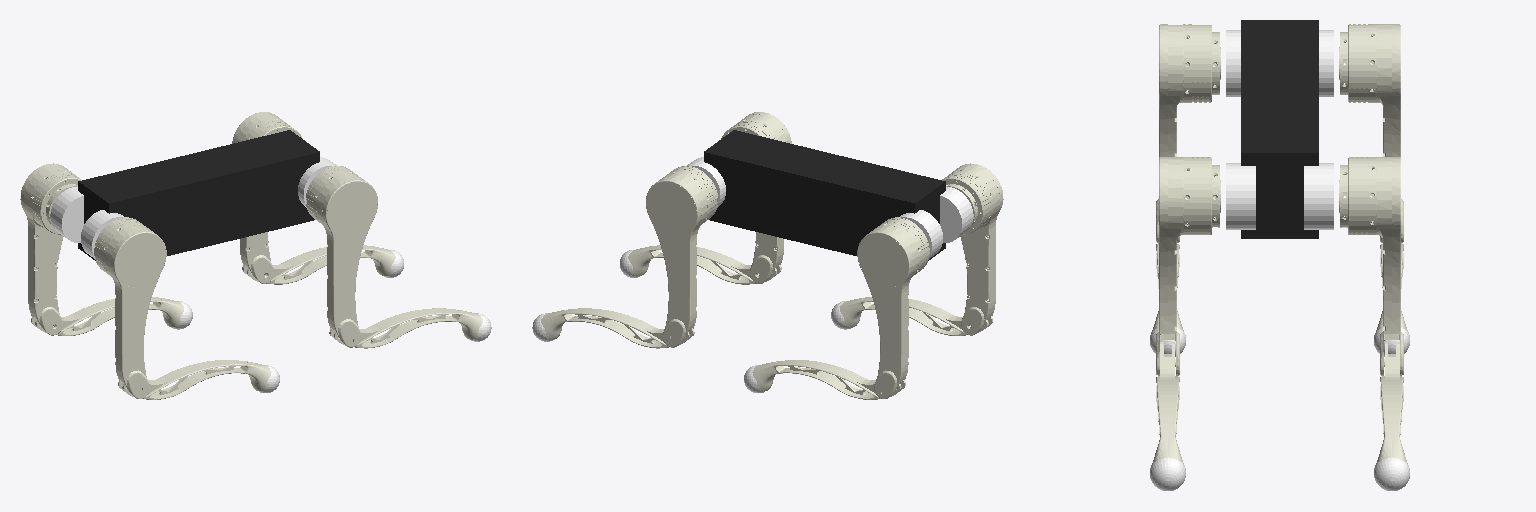
The robot description file, URDF, robot "go1_pointfoot_quadruped":
<?xml version="1.0"?>
<robot name="go1_pointfoot_quadruped">

  <!-- ================= materials ================= -->
  <material name="white"><color rgba="1 1 1 1"/></material>
  <material name="silver"><color rgba="0.9137 0.9137 0.8471 1"/></material>
  <material name="grey"><color rgba="0.2 0.2 0.2 1"/></material>

  <!-- ================= base ================= -->
  <link name="base">
    <visual><geometry><box size="0.001 0.001 0.001"/></geometry></visual>
  </link>

  <joint name="floating_base" type="fixed">
    <parent link="base"/>
    <child link="trunk"/>
    <origin xyz="0 0 0"/>
  </joint>

  <!-- ================= trunk ================= -->
  <link name="trunk">
    <visual>
      <geometry><box size="0.3762 0.0935 0.114"/></geometry>
      <material name="grey"/>
    </visual>
    <collision>
      <geometry><box size="0.3762 0.0935 0.114"/></geometry>
    </collision>
    <inertial>
      <origin xyz="0.011611 0.004437 0.000108"/>
      <mass value="4.8"/>
      <inertia
        ixx="0.016130741919" ixy="0.000593180607" ixz="7.324662e-06"
        iyy="0.036507810812" iyz="2.0969537e-05" izz="0.044693872053"/>
    </inertial>
  </link>

  <!-- ================= IMU ================= -->
  <joint name="imu_joint" type="fixed">
    <parent link="trunk"/>
    <child link="imu_link"/>
    <origin xyz="-0.01592 -0.06659 -0.00617"/>
  </joint>

  <link name="imu_link">
    <inertial>
      <mass value="0.001"/>
      <inertia ixx="1e-4" iyy="1e-4" izz="1e-4" ixy="0" ixz="0" iyz="0"/>
    </inertial>
  </link>

  <!-- ========================================================= -->
  <!-- ======================= FR LEG (use R_ params) =========== -->
  <!-- ========================================================= -->

  <joint name="FR_abad_joint" type="revolute">
    <parent link="trunk"/>
    <child link="FR_Abad_Link"/>
    <origin xyz="0.1881 -0.04675 0"/>
    <axis xyz="1 0 0"/>
    <limit effort="40" lower="-0.4" upper="0.4" velocity="30"/>
  </joint>

  <link name="FR_Abad_Link">
    <inertial>
      <origin xyz="0 -0.0033685 0"/>
      <mass value="0.84142"/>
      <inertia ixx="0.00044085" ixy="6.4555e-07" ixz="-2.9232e-07"
               iyy="0.00074812" iyz="9.7511e-08" izz="0.0004023"/>
    </inertial>
    <visual>
      <origin rpy="1.57 0 0"/>
      <geometry><cylinder length="0.035" radius="0.04"/></geometry>
      <material name="white"/>
    </visual>
    <collision>
      <origin rpy="1.57 0 0"/>
      <geometry><cylinder length="0.035" radius="0.04"/></geometry>
    </collision>
  </link>

  <joint name="FR_hip_joint" type="revolute">
    <parent link="FR_Abad_Link"/>
    <child link="FR_hip_Link"/>
    <origin xyz="0 -0.0875 0"/>
    <axis xyz="0 -1 0"/>
    <limit effort="40" lower="-1.3" upper="1.3" velocity="30"/>
  </joint>

  <link name="FR_hip_Link">
    <visual><geometry><mesh filename="../meshes/R_hip_Link.STL"/></geometry><material name="silver"/></visual>
    <collision>
      <origin xyz="0 0 -0.1"/>
      <geometry><cylinder length="0.15" radius="0.02"/></geometry>
    </collision>
    <inertial>
      <origin xyz="-0.0029051 0.021376 -0.028346"/>
      <mass value="1.0967"/>
      <inertia ixx="0.0021496" ixy="1.1839e-06" ixz="-4.8995e-05"
               iyy="0.0026093" iyz="1.3229e-05" izz="0.00052605"/>
    </inertial>
  </link>

  <joint name="FR_knee_joint" type="revolute">
    <parent link="FR_hip_Link"/>
    <child link="FR_knee_Link"/>
    <origin xyz="0 0 -0.22"/>
    <axis xyz="0 -1 0"/>
    <limit effort="40" lower="0.5" upper="2.3" velocity="30"/>
  </joint>

  <link name="FR_knee_Link">
    <visual><geometry><mesh filename="../meshes/R_knee_Link.STL"/></geometry><material name="silver"/></visual>
    <collision>
      <origin xyz="0.008 0 -0.06" rpy="0 -0.21 0"/>
      <geometry><cylinder length="0.12" radius="0.012"/></geometry>
    </collision>
    <inertial>
      <origin xyz="0.006435 0 -0.107388"/>
      <mass value="0.154"/>
      <inertia ixx="0.00108" ixy="3.4e-07" ixz="1.72e-05"
               iyy="0.0011" iyz="8.28e-06" izz="3.29e-05"/>
    </inertial>
  </link>

  <!-- knee sub-links (from original biped) -->
  <link name="FR_kneeflower">
    <collision>
      <origin xyz="0 0 0" rpy="0 0 0"/>
      <geometry><cylinder length="0.07" radius="0.011"/></geometry>
    </collision>
  </link>

  <joint name="FR_kneeflower_joint" type="fixed">
    <parent link="FR_knee_Link"/>
    <child link="FR_kneeflower"/>
    <origin xyz="0.020 0 -0.152" rpy="0 0.05 0"/>
    <axis xyz="0 0 0"/>
  </joint>

  <link name="FR_kneeflower1">
    <collision>
      <origin xyz="0 0 0" rpy="0 0 0"/>
      <geometry><cylinder length="0.038" radius="0.012"/></geometry>
    </collision>
  </link>

  <joint name="FR_kneeflower1_joint" type="fixed">
    <parent link="FR_kneeflower"/>
    <child link="FR_kneeflower1"/>
    <origin xyz="-0.006 0 -0.05" rpy="0 0.3 0"/>
    <axis xyz="0 0 0"/>
  </joint>

  <joint name="FR_foot_joint" type="fixed" dont_collapse="true">
    <parent link="FR_knee_Link"/>
    <child link="FR_foot"/>
    <origin xyz="0 0 -0.232"/>
  </joint>

  <link name="FR_foot">
    <visual><geometry><sphere radius="0.022"/></geometry><material name="white"/></visual>
    <collision><geometry><sphere radius="0.022"/></geometry></collision>
    <inertial>
      <origin xyz="-0.039445 0 -0.17051"/>
      <mass value="0.010414"/>
      <inertia ixx="2.0696e-05" iyy="1.6231e-06" izz="2.1532e-05"
               ixy="0" ixz="4.8649e-07" iyz="0"/>
    </inertial>
  </link>

  <!-- ========================================================= -->
  <!-- ======================= FL LEG (use L_ params) =========== -->
  <!-- ========================================================= -->

  <joint name="FL_abad_joint" type="revolute">
    <parent link="trunk"/>
    <child link="FL_Abad_Link"/>
    <origin xyz="0.1881 0.04675 0"/>
    <axis xyz="1 0 0"/>
    <limit effort="40" lower="-0.4" upper="0.4" velocity="30"/>
  </joint>

  <link name="FL_Abad_Link">
    <inertial>
      <origin xyz="0 0.0033685 0"/>
      <mass value="0.84142"/>
      <inertia ixx="0.00044078" ixy="-9.9392e-08" ixz="-3.6784e-07"
               iyy="0.00074812" iyz="-4.4651e-08" izz="0.00040238"/>
    </inertial>
    <visual>
      <origin rpy="1.57 0 0"/>
      <geometry><cylinder length="0.035" radius="0.04"/></geometry>
      <material name="white"/>
    </visual>
    <collision>
      <origin rpy="1.57 0 0"/>
      <geometry><cylinder length="0.035" radius="0.04"/></geometry>
    </collision>
  </link>

  <joint name="FL_hip_joint" type="revolute">
    <parent link="FL_Abad_Link"/>
    <child link="FL_hip_Link"/>
    <origin xyz="0 0.0875 0"/>
    <axis xyz="0 -1 0"/>
    <limit effort="40" lower="-1.3" upper="1.3" velocity="30"/>
  </joint>

  <link name="FL_hip_Link">
    <visual><geometry><mesh filename="../meshes/L_hip_Link.STL"/></geometry><material name="silver"/></visual>
    <collision>
      <origin xyz="0 0 -0.1"/>
      <geometry><cylinder length="0.15" radius="0.02"/></geometry>
    </collision>
    <inertial>
      <origin xyz="-0.0029051 -0.021376 -0.028346"/>
      <mass value="1.0967"/>
      <inertia ixx="0.0021496" ixy="1.1839e-06" ixz="-4.8995e-05"
               iyy="0.0026093" iyz="1.3229e-05" izz="0.00052605"/>
    </inertial>
  </link>

  <joint name="FL_knee_joint" type="revolute">
    <parent link="FL_hip_Link"/>
    <child link="FL_knee_Link"/>
    <origin xyz="0 0 -0.22"/>
    <axis xyz="0 -1 0"/>
    <limit effort="40" lower="0.5" upper="2.3" velocity="30"/>
  </joint>

  <link name="FL_knee_Link">
    <visual><geometry><mesh filename="../meshes/L_knee_Link.STL"/></geometry><material name="silver"/></visual>
    <collision>
      <origin xyz="0.008 0 -0.06" rpy="0 -0.21 0"/>
      <geometry><cylinder length="0.12" radius="0.012"/></geometry>
    </collision>
    <inertial>
      <origin xyz="0.006435 0 -0.107388"/>
      <mass value="0.154"/>
      <inertia ixx="0.00108" ixy="3.4e-07" ixz="1.72e-05"
               iyy="0.0011" iyz="8.28e-06" izz="3.29e-05"/>
    </inertial>
  </link>

  <link name="FL_kneeflower">
    <collision>
      <origin xyz="0 0 0" rpy="0 0 0"/>
      <geometry><cylinder length="0.07" radius="0.011"/></geometry>
    </collision>
  </link>

  <joint name="FL_kneeflower_joint" type="fixed">
    <parent link="FL_knee_Link"/>
    <child link="FL_kneeflower"/>
    <origin xyz="0.020 0 -0.152" rpy="0 0.05 0"/>
    <axis xyz="0 0 0"/>
  </joint>

  <link name="FL_kneeflower1">
    <collision>
      <origin xyz="0 0 0" rpy="0 0 0"/>
      <geometry><cylinder length="0.038" radius="0.012"/></geometry>
    </collision>
  </link>

  <joint name="FL_kneeflower1_joint" type="fixed">
    <parent link="FL_kneeflower"/>
    <child link="FL_kneeflower1"/>
    <origin xyz="-0.006 0 -0.05" rpy="0 0.3 0"/>
    <axis xyz="0 0 0"/>
  </joint>

  <joint name="FL_foot_joint" type="fixed" dont_collapse="true">
    <parent link="FL_knee_Link"/>
    <child link="FL_foot"/>
    <origin xyz="0 0 -0.232"/>
  </joint>

  <link name="FL_foot">
    <visual><geometry><sphere radius="0.022"/></geometry><material name="white"/></visual>
    <collision><geometry><sphere radius="0.022"/></geometry></collision>
    <inertial>
      <origin xyz="-0.039445 0 -0.17051"/>
      <mass value="0.010414"/>
      <inertia ixx="2.0696e-05" iyy="1.6231e-06" izz="2.1532e-05"
               ixy="0" ixz="4.8649e-07" iyz="0"/>
    </inertial>
  </link>

  <!-- ========================================================= -->
  <!-- ======================= RR LEG (use R_ params) =========== -->
  <!-- ========================================================= -->

  <joint name="RR_abad_joint" type="revolute">
    <parent link="trunk"/>
    <child link="RR_Abad_Link"/>
    <origin xyz="-0.1881 -0.04675 0"/>
    <axis xyz="1 0 0"/>
    <limit effort="40" lower="-0.4" upper="0.4" velocity="30"/>
  </joint>

  <link name="RR_Abad_Link">
    <inertial>
      <origin xyz="0 -0.0033685 0"/>
      <mass value="0.84142"/>
      <inertia ixx="0.00044085" ixy="6.4555e-07" ixz="-2.9232e-07"
               iyy="0.00074812" iyz="9.7511e-08" izz="0.0004023"/>
    </inertial>
    <visual>
      <origin rpy="1.57 0 0"/>
      <geometry><cylinder length="0.035" radius="0.04"/></geometry>
      <material name="white"/>
    </visual>
    <collision>
      <origin rpy="1.57 0 0"/>
      <geometry><cylinder length="0.035" radius="0.04"/></geometry>
    </collision>
  </link>

  <joint name="RR_hip_joint" type="revolute">
    <parent link="RR_Abad_Link"/>
    <child link="RR_hip_Link"/>
    <origin xyz="0 -0.0875 0"/>
    <axis xyz="0 -1 0"/>
    <limit effort="40" lower="-1.3" upper="1.3" velocity="30"/>
  </joint>

  <link name="RR_hip_Link">
    <visual><geometry><mesh filename="../meshes/R_hip_Link.STL"/></geometry><material name="silver"/></visual>
    <collision>
      <origin xyz="0 0 -0.1"/>
      <geometry><cylinder length="0.15" radius="0.02"/></geometry>
    </collision>
    <inertial>
      <origin xyz="-0.0029051 0.021376 -0.028346"/>
      <mass value="1.0967"/>
      <inertia ixx="0.0021496" ixy="1.1839e-06" ixz="-4.8995e-05"
               iyy="0.0026093" iyz="1.3229e-05" izz="0.00052605"/>
    </inertial>
  </link>

  <joint name="RR_knee_joint" type="revolute">
    <parent link="RR_hip_Link"/>
    <child link="RR_knee_Link"/>
    <origin xyz="0 0 -0.22"/>
    <axis xyz="0 -1 0"/>
    <limit effort="40" lower="0.5" upper="2.3" velocity="30"/>
  </joint>

  <link name="RR_knee_Link">
    <visual><geometry><mesh filename="../meshes/R_knee_Link.STL"/></geometry><material name="silver"/></visual>
    <collision>
      <origin xyz="0.008 0 -0.06" rpy="0 -0.21 0"/>
      <geometry><cylinder length="0.12" radius="0.012"/></geometry>
    </collision>
    <inertial>
      <origin xyz="0.006435 0 -0.107388"/>
      <mass value="0.154"/>
      <inertia ixx="0.00108" ixy="3.4e-07" ixz="1.72e-05"
               iyy="0.0011" iyz="8.28e-06" izz="3.29e-05"/>
    </inertial>
  </link>

  <link name="RR_kneeflower">
    <collision>
      <origin xyz="0 0 0" rpy="0 0 0"/>
      <geometry><cylinder length="0.07" radius="0.011"/></geometry>
    </collision>
  </link>

  <joint name="RR_kneeflower_joint" type="fixed">
    <parent link="RR_knee_Link"/>
    <child link="RR_kneeflower"/>
    <origin xyz="0.020 0 -0.152" rpy="0 0.05 0"/>
    <axis xyz="0 0 0"/>
  </joint>

  <link name="RR_kneeflower1">
    <collision>
      <origin xyz="0 0 0" rpy="0 0 0"/>
      <geometry><cylinder length="0.038" radius="0.012"/></geometry>
    </collision>
  </link>

  <joint name="RR_kneeflower1_joint" type="fixed">
    <parent link="RR_kneeflower"/>
    <child link="RR_kneeflower1"/>
    <origin xyz="-0.006 0 -0.05" rpy="0 0.3 0"/>
    <axis xyz="0 0 0"/>
  </joint>

  <joint name="RR_foot_joint" type="fixed" dont_collapse="true">
    <parent link="RR_knee_Link"/>
    <child link="RR_foot"/>
    <origin xyz="0 0 -0.232"/>
  </joint>

  <link name="RR_foot">
    <visual><geometry><sphere radius="0.022"/></geometry><material name="white"/></visual>
    <collision><geometry><sphere radius="0.022"/></geometry></collision>
    <inertial>
      <origin xyz="-0.039445 0 -0.17051"/>
      <mass value="0.010414"/>
      <inertia ixx="2.0696e-05" iyy="1.6231e-06" izz="2.1532e-05"
               ixy="0" ixz="4.8649e-07" iyz="0"/>
    </inertial>
  </link>

  <!-- ========================================================= -->
  <!-- ======================= RL LEG (use L_ params) =========== -->
  <!-- ========================================================= -->

  <joint name="RL_abad_joint" type="revolute">
    <parent link="trunk"/>
    <child link="RL_Abad_Link"/>
    <origin xyz="-0.1881 0.04675 0"/>
    <axis xyz="1 0 0"/>
    <limit effort="40" lower="-0.4" upper="0.4" velocity="30"/>
  </joint>

  <link name="RL_Abad_Link">
    <inertial>
      <origin xyz="0 0.0033685 0"/>
      <mass value="0.84142"/>
      <inertia ixx="0.00044078" ixy="-9.9392e-08" ixz="-3.6784e-07"
               iyy="0.00074812" iyz="-4.4651e-08" izz="0.00040238"/>
    </inertial>
    <visual>
      <origin rpy="1.57 0 0"/>
      <geometry><cylinder length="0.035" radius="0.04"/></geometry>
      <material name="white"/>
    </visual>
    <collision>
      <origin rpy="1.57 0 0"/>
      <geometry><cylinder length="0.035" radius="0.04"/></geometry>
    </collision>
  </link>

  <joint name="RL_hip_joint" type="revolute">
    <parent link="RL_Abad_Link"/>
    <child link="RL_hip_Link"/>
    <origin xyz="0 0.0875 0"/>
    <axis xyz="0 -1 0"/>
    <limit effort="40" lower="-1.3" upper="1.3" velocity="30"/>
  </joint>

  <link name="RL_hip_Link">
    <visual><geometry><mesh filename="../meshes/L_hip_Link.STL"/></geometry><material name="silver"/></visual>
    <collision>
      <origin xyz="0 0 -0.1"/>
      <geometry><cylinder length="0.15" radius="0.02"/></geometry>
    </collision>
    <inertial>
      <origin xyz="-0.0029051 -0.021376 -0.028346"/>
      <mass value="1.0967"/>
      <inertia ixx="0.0021496" ixy="1.1839e-06" ixz="-4.8995e-05"
               iyy="0.0026093" iyz="1.3229e-05" izz="0.00052605"/>
    </inertial>
  </link>

  <joint name="RL_knee_joint" type="revolute">
    <parent link="RL_hip_Link"/>
    <child link="RL_knee_Link"/>
    <origin xyz="0 0 -0.22"/>
    <axis xyz="0 -1 0"/>
    <limit effort="40" lower="0.5" upper="2.3" velocity="30"/>
  </joint>

  <link name="RL_knee_Link">
    <visual><geometry><mesh filename="../meshes/L_knee_Link.STL"/></geometry><material name="silver"/></visual>
    <collision>
      <origin xyz="0.008 0 -0.06" rpy="0 -0.21 0"/>
      <geometry><cylinder length="0.12" radius="0.012"/></geometry>
    </collision>
    <inertial>
      <origin xyz="0.006435 0 -0.107388"/>
      <mass value="0.154"/>
      <inertia ixx="0.00108" ixy="3.4e-07" ixz="1.72e-05"
               iyy="0.0011" iyz="8.28e-06" izz="3.29e-05"/>
    </inertial>
  </link>

  <link name="RL_kneeflower">
    <collision>
      <origin xyz="0 0 0" rpy="0 0 0"/>
      <geometry><cylinder length="0.07" radius="0.011"/></geometry>
    </collision>
  </link>

  <joint name="RL_kneeflower_joint" type="fixed">
    <parent link="RL_knee_Link"/>
    <child link="RL_kneeflower"/>
    <origin xyz="0.020 0 -0.152" rpy="0 0.05 0"/>
    <axis xyz="0 0 0"/>
  </joint>

  <link name="RL_kneeflower1">
    <collision>
      <origin xyz="0 0 0" rpy="0 0 0"/>
      <geometry><cylinder length="0.038" radius="0.012"/></geometry>
    </collision>
  </link>

  <joint name="RL_kneeflower1_joint" type="fixed">
    <parent link="RL_kneeflower"/>
    <child link="RL_kneeflower1"/>
    <origin xyz="-0.006 0 -0.05" rpy="0 0.3 0"/>
    <axis xyz="0 0 0"/>
  </joint>

  <joint name="RL_foot_joint" type="fixed" dont_collapse="true">
    <parent link="RL_knee_Link"/>
    <child link="RL_foot"/>
    <origin xyz="0 0 -0.232"/>
  </joint>

  <link name="RL_foot">
    <visual><geometry><sphere radius="0.022"/></geometry><material name="white"/></visual>
    <collision><geometry><sphere radius="0.022"/></geometry></collision>
    <inertial>
      <origin xyz="-0.039445 0 -0.17051"/>
      <mass value="0.010414"/>
      <inertia ixx="2.0696e-05" iyy="1.6231e-06" izz="2.1532e-05"
               ixy="0" ixz="4.8649e-07" iyz="0"/>
    </inertial>
  </link>

</robot>

--- Render facts (derived) ---
3 views of the same robot in one strip: view 1: azimuth 30°, elevation 25°; view 2: azimuth 150°, elevation 25°; view 3: azimuth 270°, elevation 25° (orthographic).
Robot: go1_pointfoot_quadruped — 27 links, 26 joints (12 revolute, 14 fixed); root link base; default pose: all joints at 0 but 4 set to mid-range because 0 is outside their limits (FR_knee_joint = 1.4, FL_knee_joint = 1.4, RR_knee_joint = 1.4, RL_knee_joint = 1.4).
Links seen in each view (by area): view 1: trunk, RR_hip_Link, FR_hip_Link, RL_hip_Link, FR_knee_Link, RR_knee_Link, FL_hip_Link, FL_knee_Link, RL_knee_Link, RL_Abad_Link, RR_Abad_Link, FR_Abad_Link; view 2: trunk, RL_hip_Link, FL_hip_Link, RR_hip_Link, FL_knee_Link, RL_knee_Link, FR_hip_Link, FR_knee_Link, RR_knee_Link, RR_Abad_Link, RL_Abad_Link, FL_Abad_Link; view 3: trunk, FL_hip_Link, FR_hip_Link, RL_hip_Link, RR_hip_Link, FR_knee_Link, FL_knee_Link, FR_Abad_Link, FL_Abad_Link, RR_Abad_Link, RL_Abad_Link, FR_foot (+1 smaller).
Link boxes in pixels (x1,y1,x2,y2): trunk: (78, 130, 319, 260); RR_hip_Link: (94, 217, 166, 398); FR_hip_Link: (306, 166, 377, 347); RL_hip_Link: (20, 163, 81, 335); FR_knee_Link: (329, 308, 483, 348); RR_knee_Link: (118, 360, 272, 399); FL_hip_Link: (232, 112, 302, 283); FL_knee_Link: (242, 245, 396, 284); RL_knee_Link: (31, 297, 184, 335); RL_Abad_Link: (50, 187, 83, 242); RR_Abad_Link: (81, 210, 123, 258); FR_Abad_Link: (298, 157, 336, 207); trunk: (704, 130, 945, 260); RL_hip_Link: (857, 217, 929, 398); FL_hip_Link: (646, 166, 717, 347); RR_hip_Link: (942, 163, 1003, 335); FL_knee_Link: (540, 308, 694, 348); RL_knee_Link: (751, 360, 905, 399); FR_hip_Link: (721, 112, 791, 283); FR_knee_Link: (627, 245, 781, 284); RR_knee_Link: (839, 297, 992, 335); RR_Abad_Link: (940, 187, 973, 242); RL_Abad_Link: (900, 210, 942, 258); FL_Abad_Link: (687, 157, 725, 207); trunk: (1241, 20, 1318, 238); FL_hip_Link: (1339, 157, 1403, 375); FR_hip_Link: (1156, 157, 1220, 375); RL_hip_Link: (1339, 24, 1403, 242); RR_hip_Link: (1156, 24, 1220, 242); FR_knee_Link: (1152, 342, 1183, 463); FL_knee_Link: (1376, 342, 1407, 463); FR_Abad_Link: (1226, 163, 1255, 229); FL_Abad_Link: (1304, 163, 1333, 229); RR_Abad_Link: (1226, 30, 1240, 96); RL_Abad_Link: (1319, 30, 1333, 96); FR_foot: (1150, 457, 1185, 490).
Size in the robot's own frame: 0.6738 by 0.3125 by 0.3384 metres.
Meshes: 4 distinct files referenced, 8 mesh visuals loaded (4 binary STL).